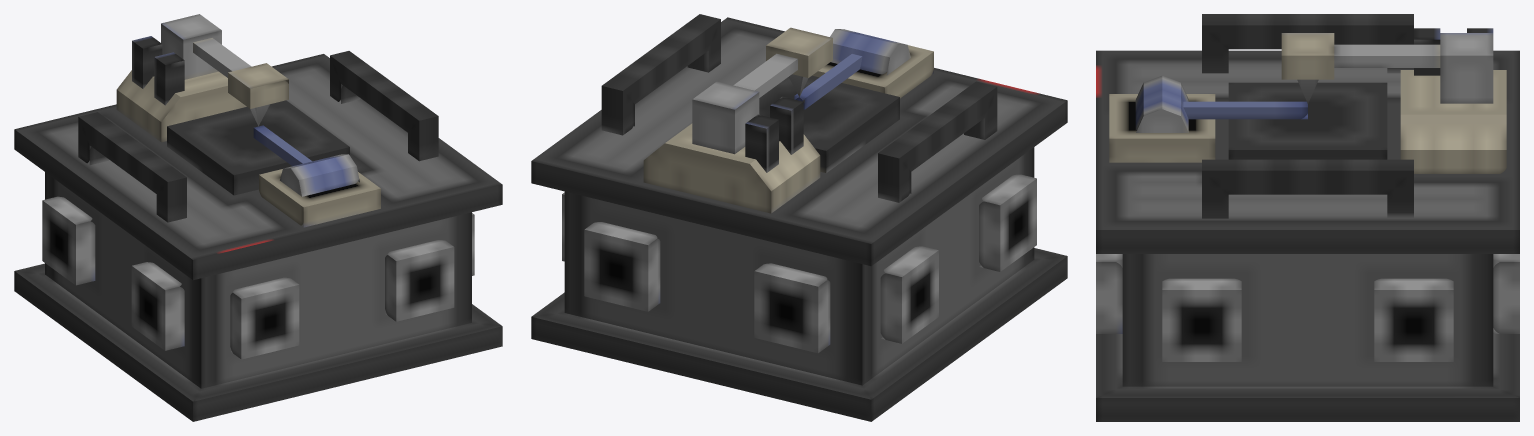
Rendered from soldering_station.obj.
The picture shows the model from 3 angles, left to right: view 1: azimuth 30°, elevation 25°; view 2: azimuth 150°, elevation 25°; view 3: azimuth 270°, elevation 25°; orthographic projection. The views are drawn at different scales.
Parts seen in each view (by area): view 1: Plane; view 2: Plane; view 3: Plane.
Part boxes in pixels (bbox=[...]): Plane: bbox=[14, 14, 502, 421]; Plane: bbox=[531, 14, 1067, 421]; Plane: bbox=[1096, 14, 1519, 421].
Bounding box in the file's own units: 2 × 1.5 × 2.
